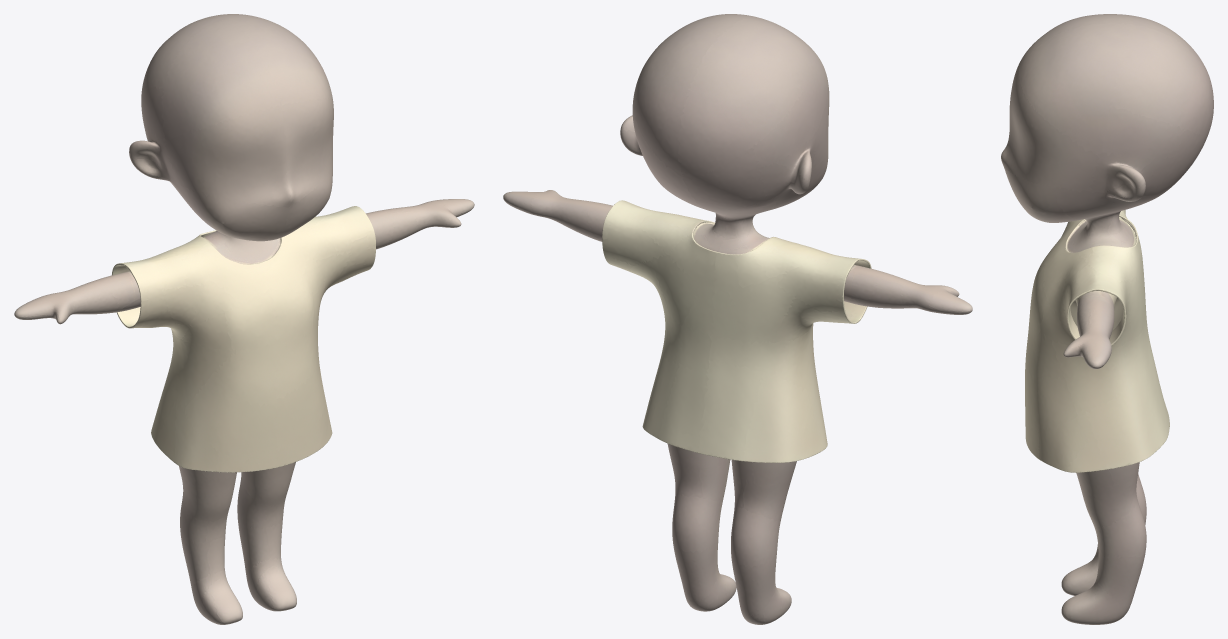
The model's file is baked_shirt2.glb.
3 views of the same model, side by side, from view 1: azimuth 30°, elevation 25°; view 2: azimuth 150°, elevation 25°; view 3: azimuth 270°, elevation 25° (orthographic). The views are drawn at different scales.
Bounding box in the file's own units: 1.57 × 1.9 × 0.627.
Materials: 1 (1 with a texture image).
